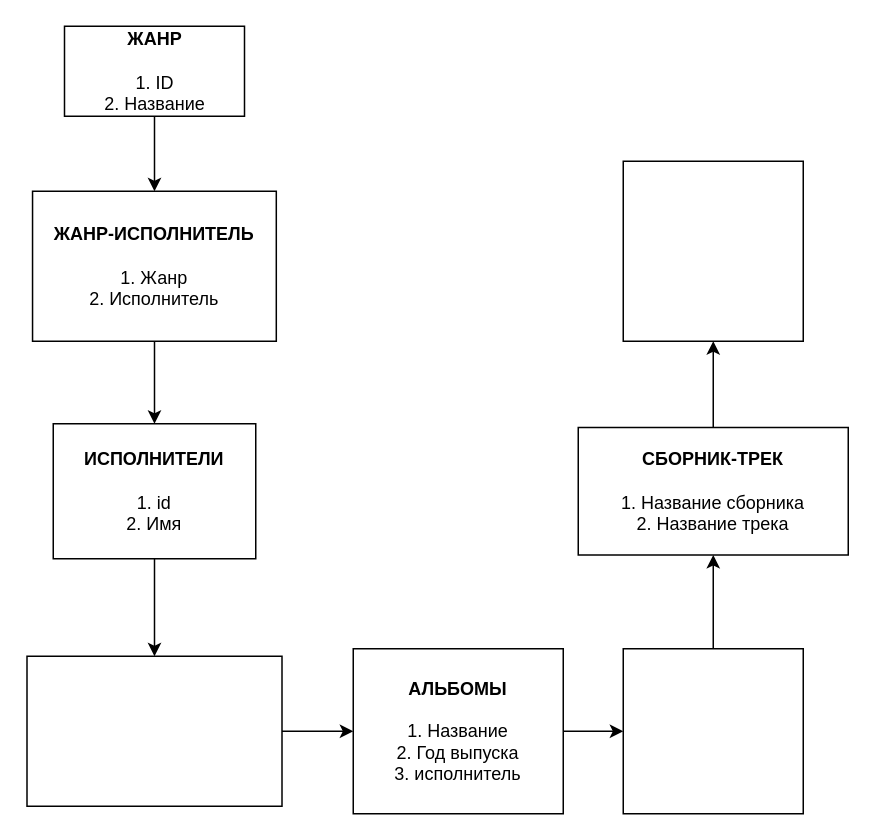
Some shapes in this 875 by 840 pixel diagram are drawn without their labels. The centre of each missing label's shape, as x and y in pixels:
ИСПОЛНИТЕЛЬ-АЛЬБОМ 1. Имя исполнителя 2. Название альбома: (154,730)
СБОРНИК 1. Название 2. Год выпуска: (712,250)
ТРЕКИ 1. Название 2. Длительность 3. Альбом: (712,730)
